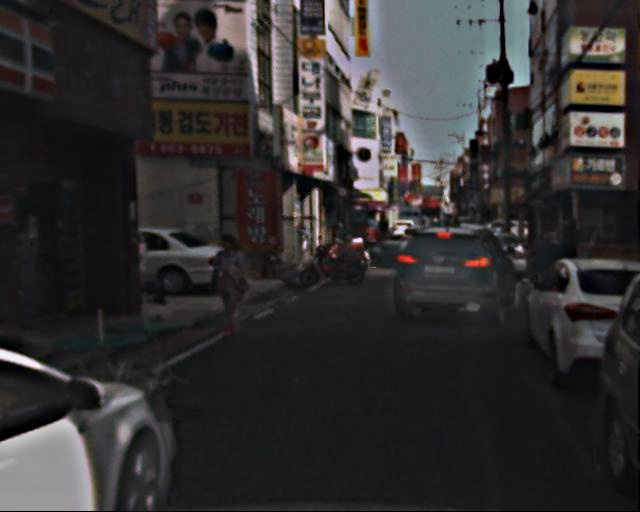person: (209, 230, 256, 338), (528, 224, 568, 312)
